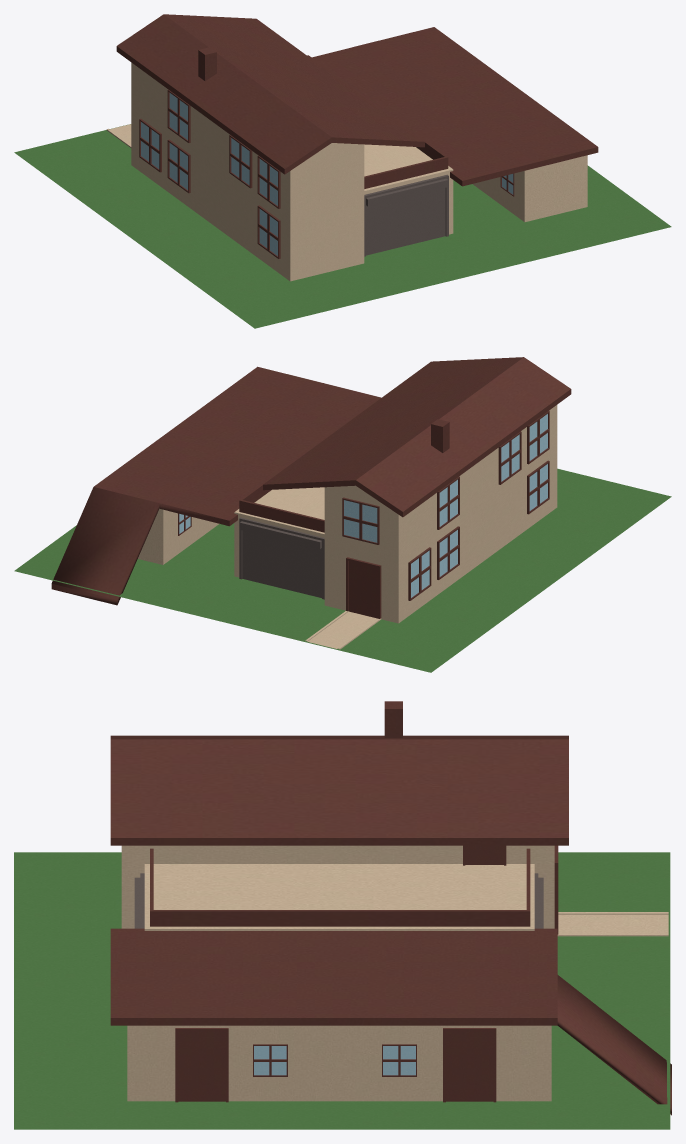
Rendered from house6.obj.
The picture shows the model from 3 angles, top to bottom: view 1: azimuth 30°, elevation 25°; view 2: azimuth 150°, elevation 25°; view 3: azimuth 270°, elevation 25°; orthographic projection. The views are drawn at different scales.
Visible parts, largest first — view 1: House.001_Plane.007, Plane.002_Plane.003_Plane.002_Plane.007, Plane.002_Plane.004_Plane.002_Plane.008, Plane.002_Plane.005, Cube.009_Cube.047, Cube.009_Cube.001, Cube.011_Cube.049, Cube.011_Cube.001, Cube.011_Cube.002, Cube.008_Cube.046; view 2: House.001_Plane.007, Plane.002_Plane.005, Plane.002_Plane.003_Plane.002_Plane.007, Plane.002_Plane.001_Plane.002_Plane.006, Cube.012_Cube.050, Cube.008_Cube.046, Cube.011_Cube.002, Cube.009_Cube.001, Cube.009_Cube.047, Cube.011_Cube.049, Cube.011_Cube.001; view 3: House.001_Plane.007, Plane.002_Plane.004_Plane.002_Plane.008, Plane.002_Plane.001_Plane.002_Plane.006, Plane.002_Plane.003_Plane.002_Plane.007, Plane.002_Plane.005, Cube.009_Cube.002, Cube.009_Cube.003.
Boxes of the visible parts, box(x1,y1,x2,y2) form: House.001_Plane.007: box(106, 14, 598, 281); Plane.002_Plane.003_Plane.002_Plane.007: box(135, 222, 462, 328); Plane.002_Plane.004_Plane.002_Plane.008: box(416, 165, 671, 277); Plane.002_Plane.005: box(14, 124, 208, 240); Cube.009_Cube.047: box(167, 139, 190, 193); Cube.009_Cube.001: box(257, 205, 280, 258); Cube.011_Cube.049: box(167, 89, 190, 142); Cube.011_Cube.001: box(257, 155, 280, 208); Cube.011_Cube.002: box(229, 135, 252, 188); Cube.008_Cube.046: box(139, 118, 161, 172); House.001_Plane.007: box(51, 357, 571, 649); Plane.002_Plane.005: box(223, 566, 550, 672); Plane.002_Plane.003_Plane.002_Plane.007: box(477, 468, 671, 584); Plane.002_Plane.001_Plane.002_Plane.006: box(14, 523, 271, 621); Cube.012_Cube.050: box(342, 497, 379, 544); Cube.008_Cube.046: box(408, 547, 431, 600); Cube.011_Cube.002: box(498, 431, 521, 484); Cube.009_Cube.001: box(527, 460, 549, 514); Cube.009_Cube.047: box(437, 526, 459, 579); Cube.011_Cube.049: box(437, 476, 459, 529); Cube.011_Cube.001: box(527, 411, 549, 464); House.001_Plane.007: box(110, 701, 671, 1115); Plane.002_Plane.004_Plane.002_Plane.008: box(14, 991, 341, 1129); Plane.002_Plane.001_Plane.002_Plane.006: box(342, 991, 670, 1129); Plane.002_Plane.003_Plane.002_Plane.007: box(14, 852, 121, 990); Plane.002_Plane.005: box(557, 852, 670, 990); Cube.009_Cube.002: box(253, 1044, 287, 1076); Cube.009_Cube.003: box(382, 1044, 416, 1076).
Bounding box in the file's own units: 40 × 14.81 × 40.11.
